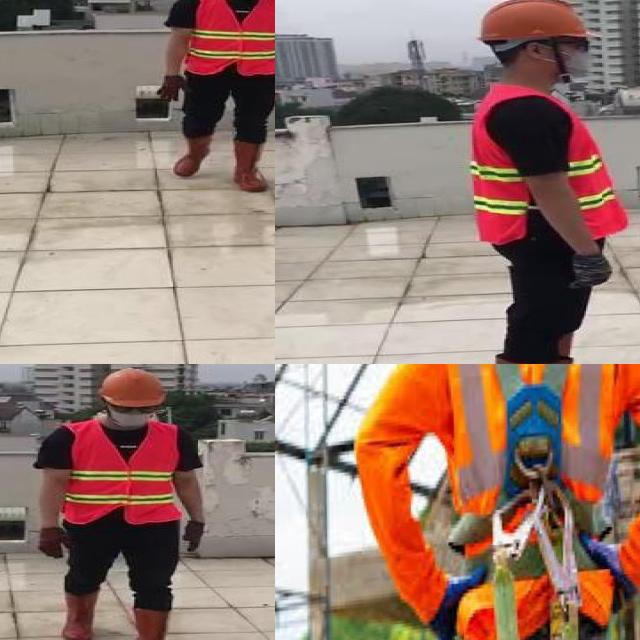Harness: (492, 364, 581, 640)
boots: (522, 326, 625, 364), (232, 139, 274, 192), (62, 589, 100, 640), (171, 133, 212, 178), (130, 606, 181, 640)
face_mask: (545, 38, 602, 78), (108, 401, 160, 428)
glasses: (110, 402, 160, 417)
hand_glove: (561, 253, 613, 289), (40, 525, 72, 560), (157, 76, 193, 102), (186, 520, 205, 551)
head_helmet: (475, 0, 589, 43), (90, 365, 172, 410)
person: (449, 0, 640, 364), (22, 364, 220, 640), (149, 0, 275, 198)
vest: (463, 76, 629, 244), (66, 424, 182, 525), (187, 0, 275, 76)
